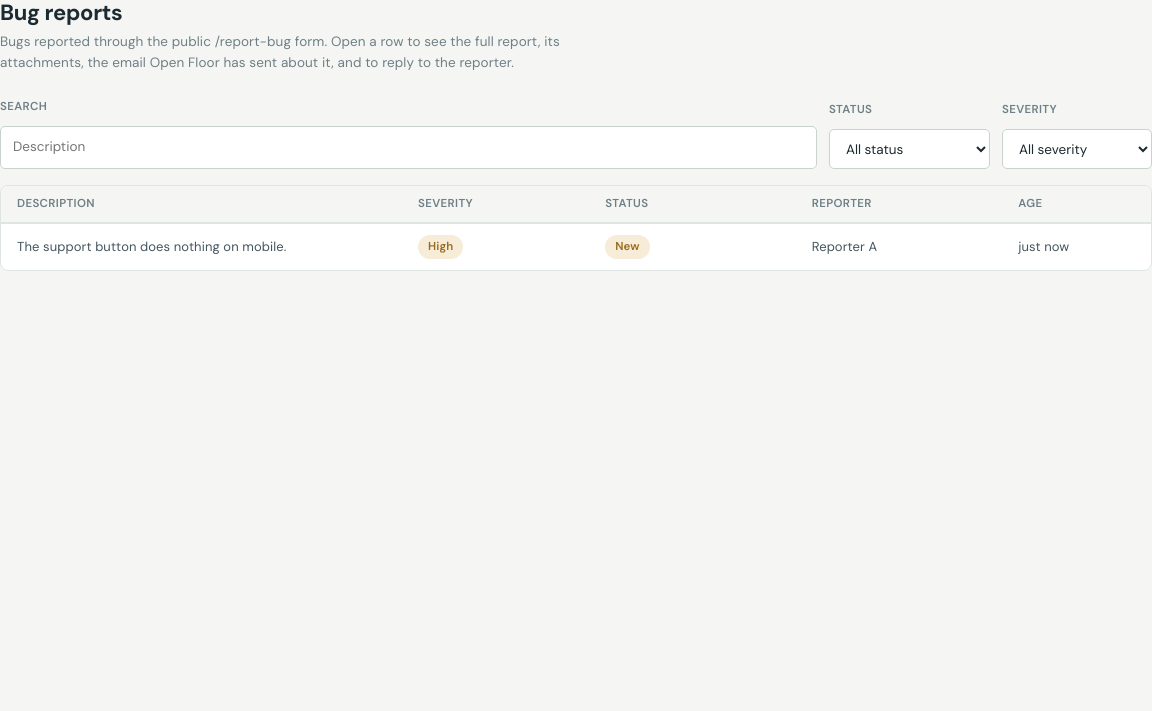
Scenario: bug detail drawer › marks internal notes as never emailed, distinctly from the reply composer
Click the text "The support button does nothing on mobile." at (152, 246), box [17, 238, 286, 255]
(page scrolled)
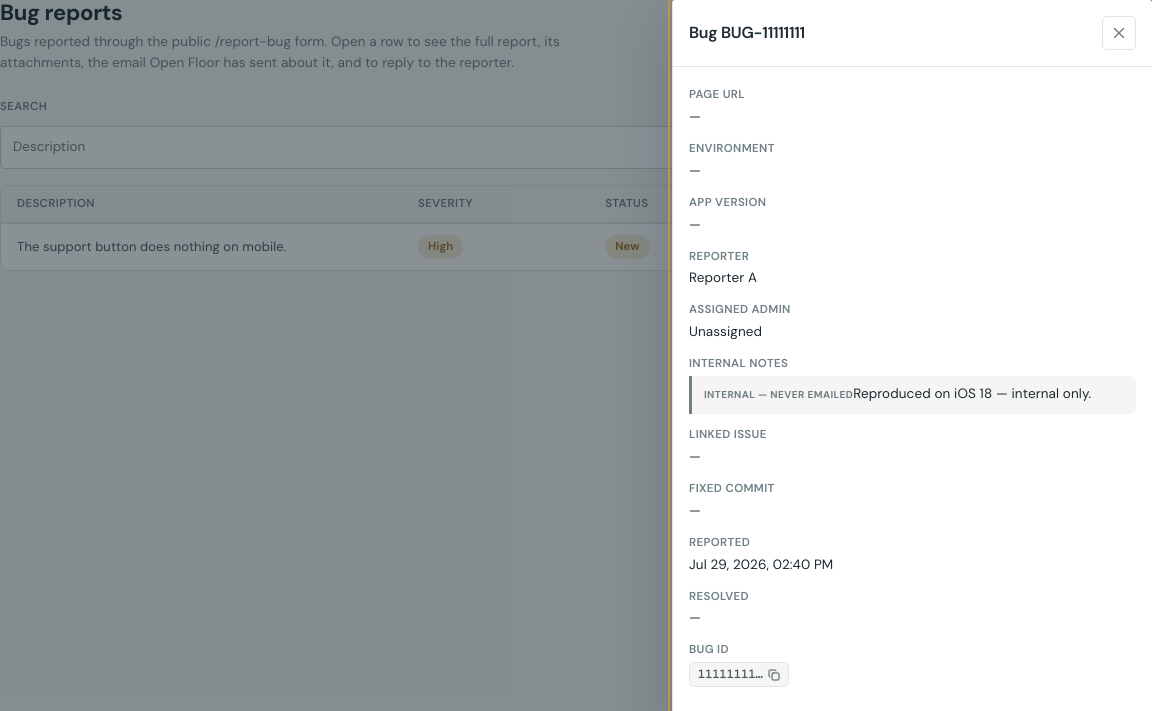
Now the text "Internal — never emailed" is shown, box [704, 387, 853, 402]
Now the text "Reproduced on iOS 18 — internal only." is shown, box [853, 385, 1091, 402]
